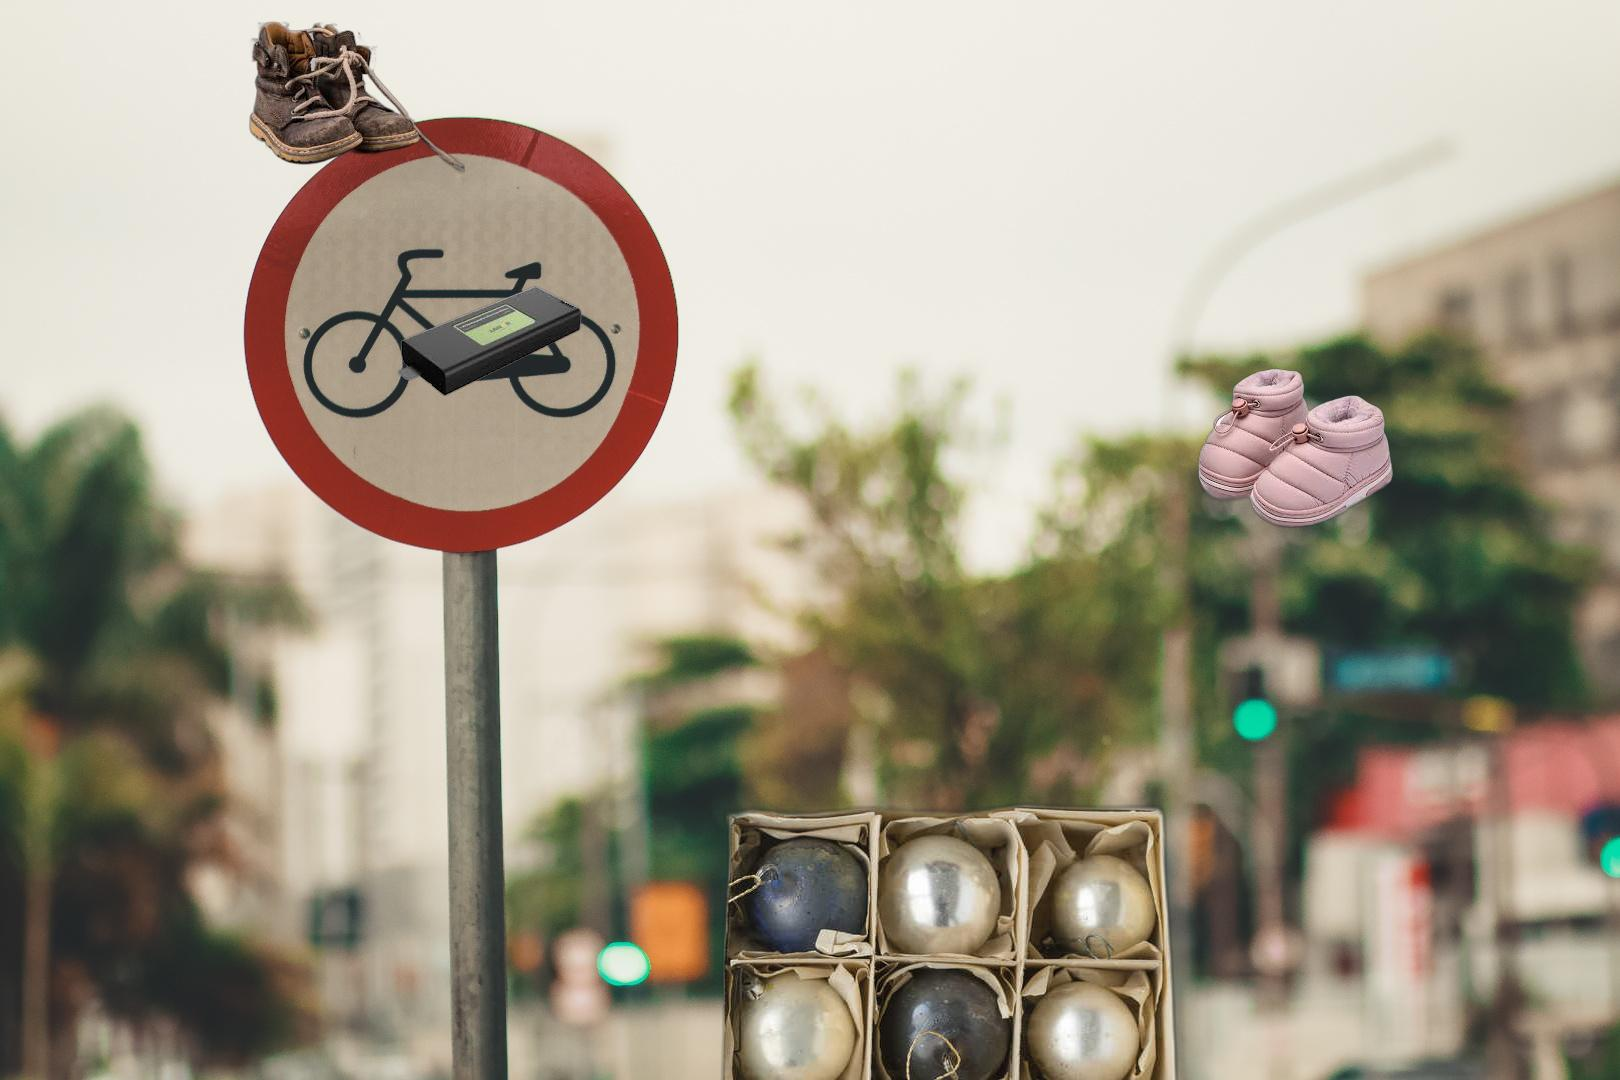battery: (395, 284, 585, 399)
shoes: (247, 19, 468, 175), (1195, 366, 1396, 529)
trashbox-cardboard: (539, 687, 1198, 1080)
